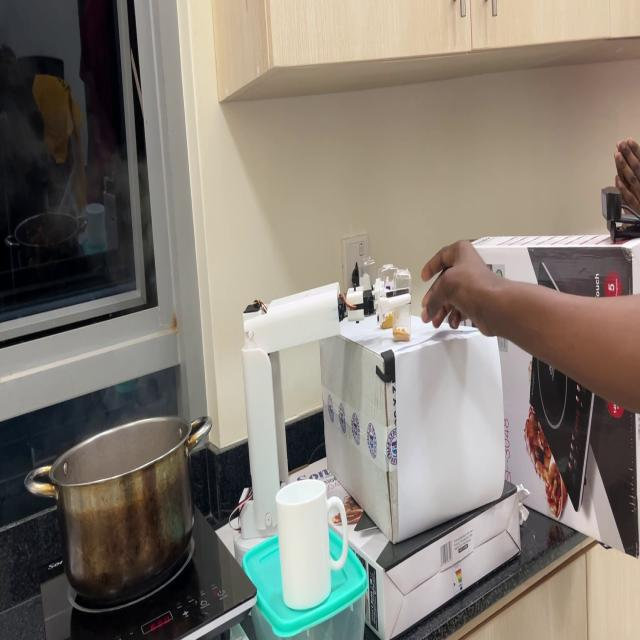cooking_pot: (23, 411, 226, 601)
curry_powder: (380, 313, 394, 327)
garlic_powder: (394, 326, 412, 346)
